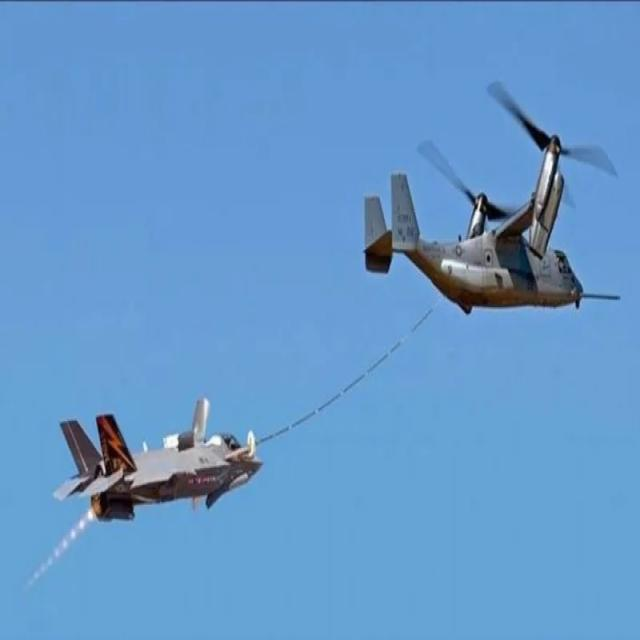MIL_Plane: (362, 78, 622, 316), (51, 397, 265, 523)
